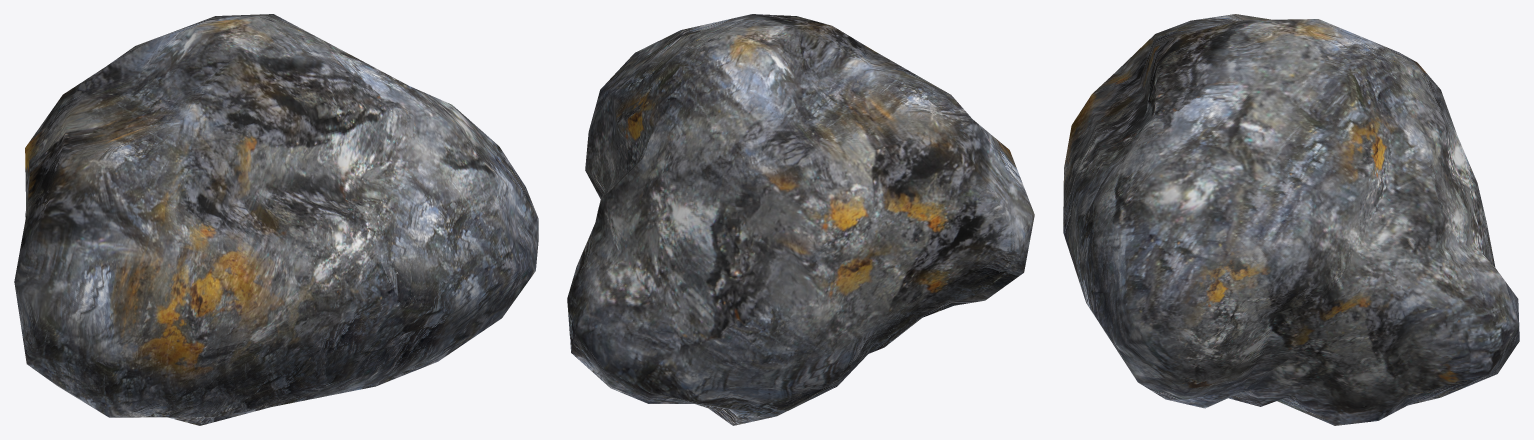
Rendered from stone.glb.
The picture shows the model from 3 angles, left to right: view 1: azimuth 30°, elevation 25°; view 2: azimuth 150°, elevation 25°; view 3: azimuth 270°, elevation 25°; orthographic projection. The views are drawn at different scales.
Parts seen in each view (by area): view 1: Object_3; view 2: Object_3; view 3: Object_3.
Part boxes in pixels (left/top/right/bottom): Object_3: left=14, top=14, right=538, bottom=425; Object_3: left=567, top=14, right=1034, bottom=425; Object_3: left=1063, top=14, right=1519, bottom=425.
Size of the model in its own units: 2.81 by 2.25 by 2.38.
1 material, 1 textured.
